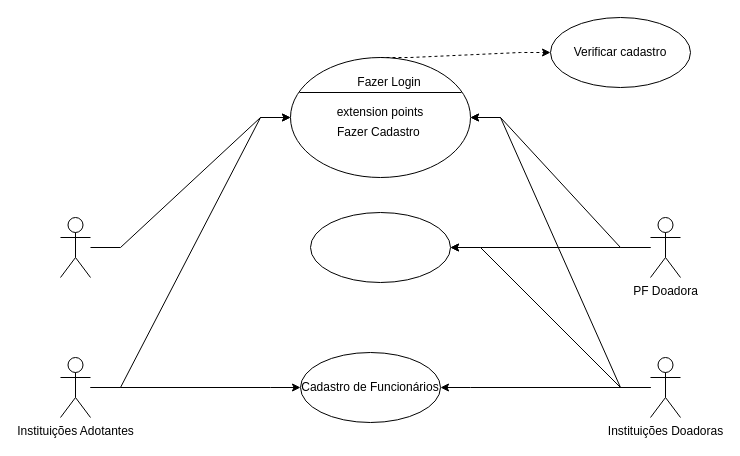
This 740x456 diagram has some shape labels left out. Here are the shapes that lost their labels. From the top down, the box of each, then its label:
(60, 216, 90, 278): PF Adotante
(310, 212, 450, 282): Cadastro de Animal para Adoção
